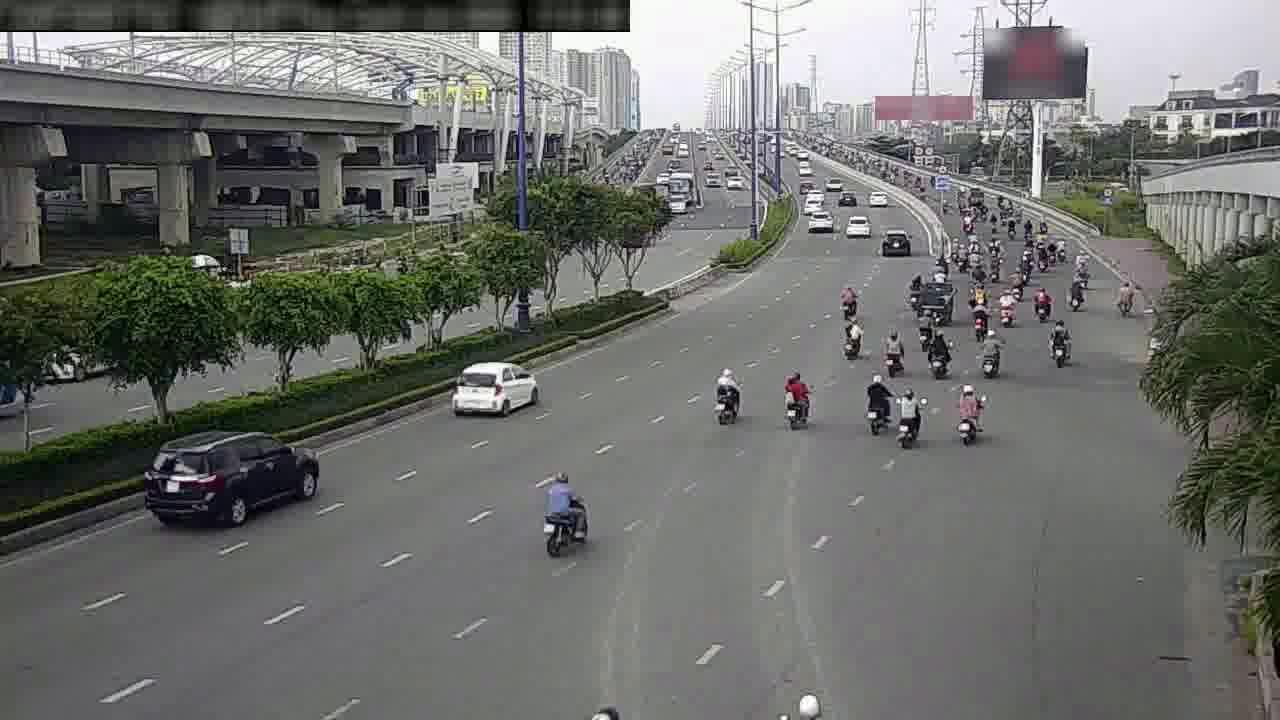container: (132, 418, 339, 531), (438, 354, 559, 430)
motorbike: (547, 465, 604, 559), (943, 379, 994, 445), (773, 357, 818, 428), (699, 352, 744, 419), (826, 309, 870, 366), (885, 384, 926, 445), (963, 299, 1001, 351), (1040, 321, 1076, 375), (968, 335, 1011, 379), (876, 323, 902, 385), (928, 337, 961, 385), (908, 309, 945, 349), (828, 274, 863, 316), (1106, 282, 1141, 324), (856, 373, 887, 420), (996, 293, 1027, 336), (1026, 285, 1049, 310)
